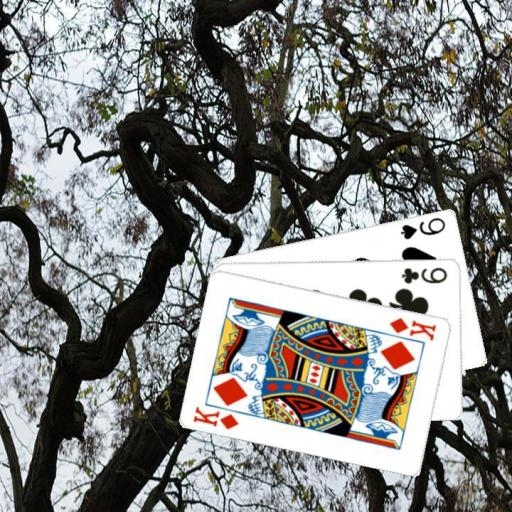9C: (398, 263, 449, 285)
9S: (398, 214, 448, 241)
KD: (386, 314, 438, 342), (190, 403, 240, 431)
